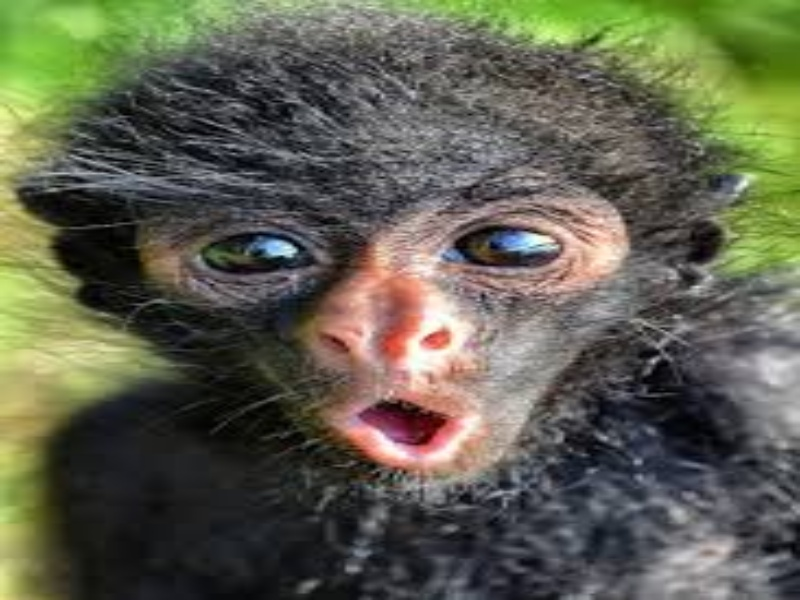monkey: (26, 19, 793, 587)
